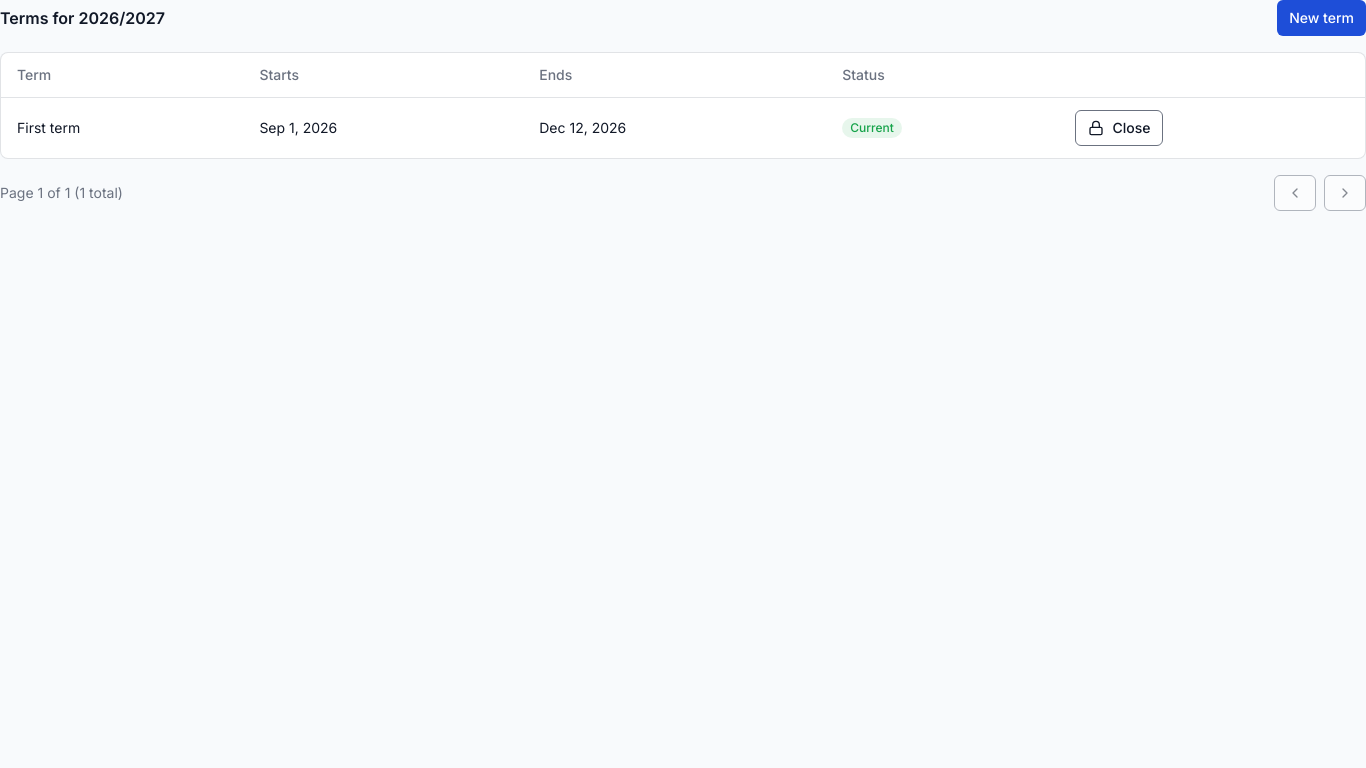
Scenario: TermsSection — close term › everything already published: the result view says so, not a blank/zero breakdown
The width and height of the screenshot is (1366, 768).
What coordinates should you click on to do the following:
click the button "Close"
I would click on:
 (1119, 128)
Its box is 1075,110 -> 1163,146.
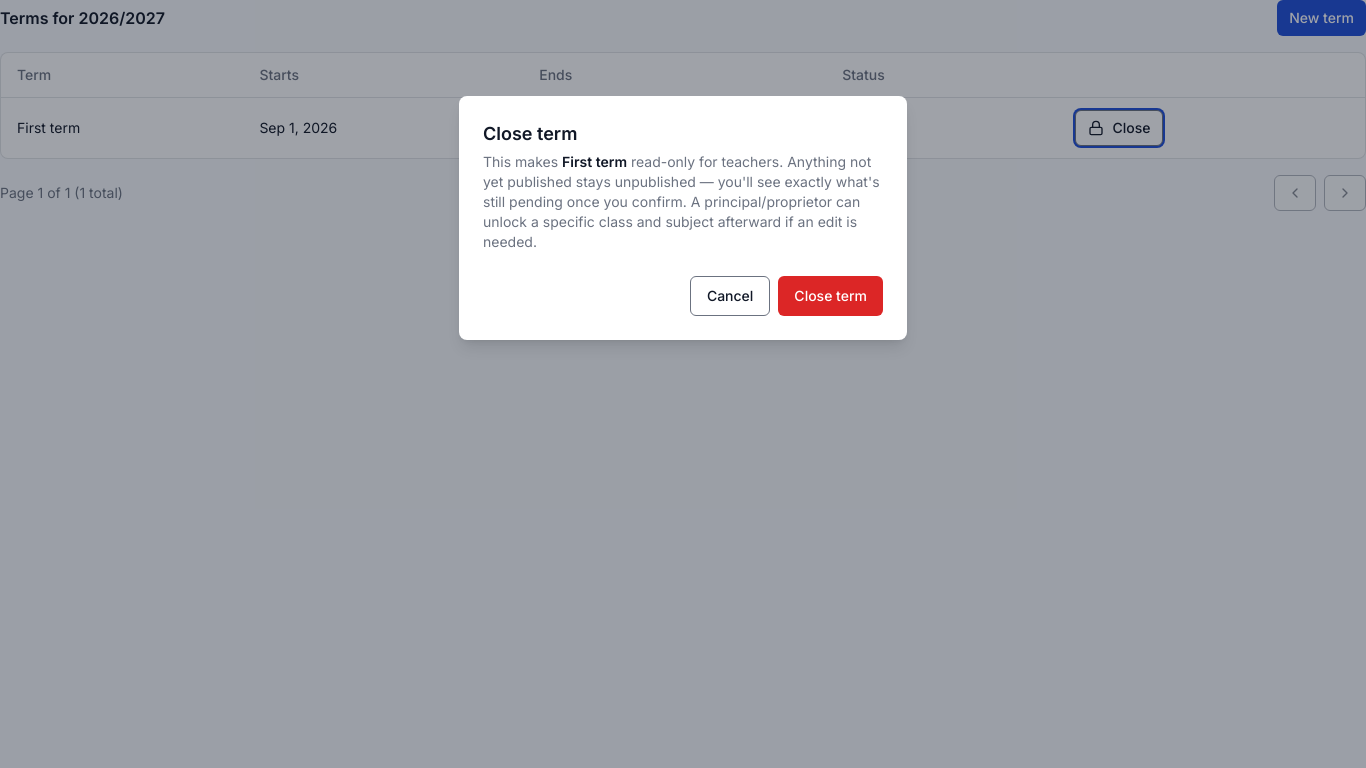
What coordinates should you click on to do the following:
click the button "Close term"
I would click on:
 (831, 296)
Its box is 778,276 -> 883,316.
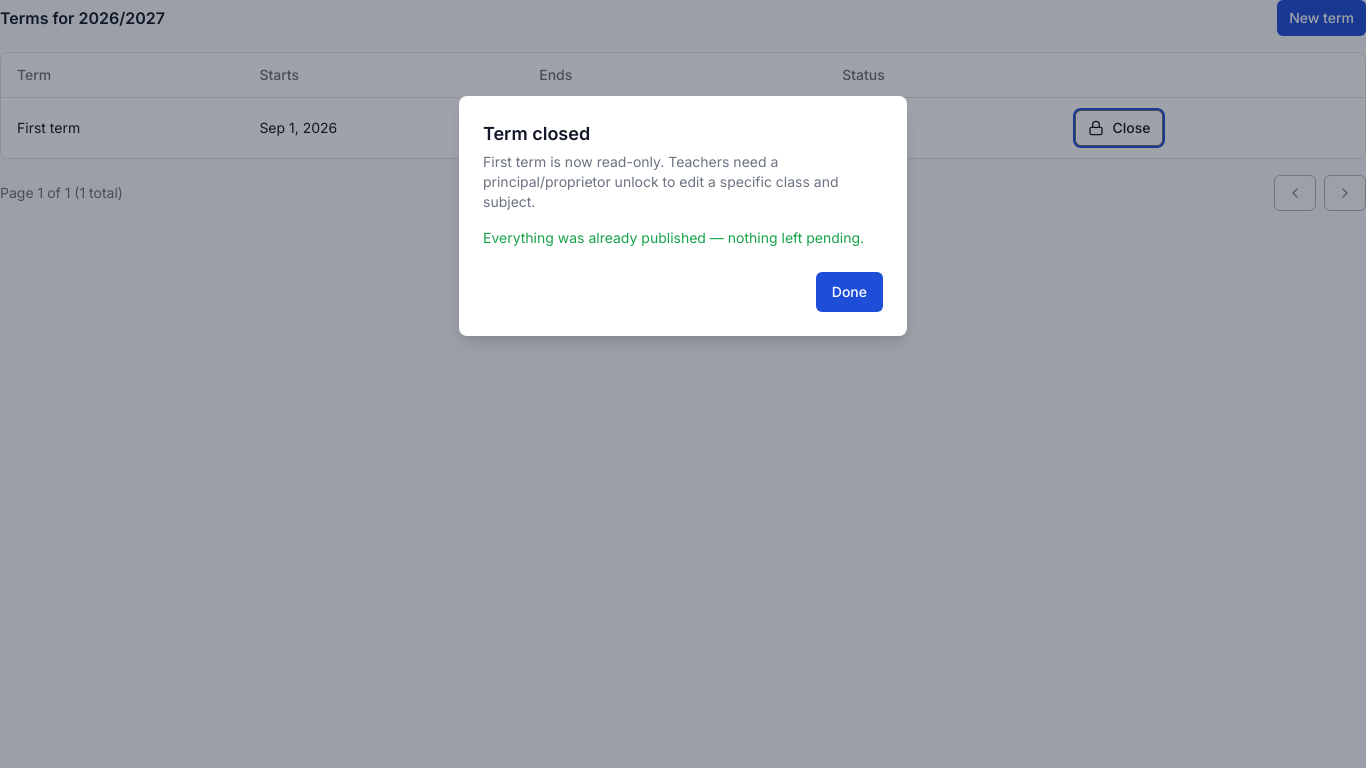
Expected: the text "Everything was already published — nothing left pending." is shown, 483,228 -> 883,248
